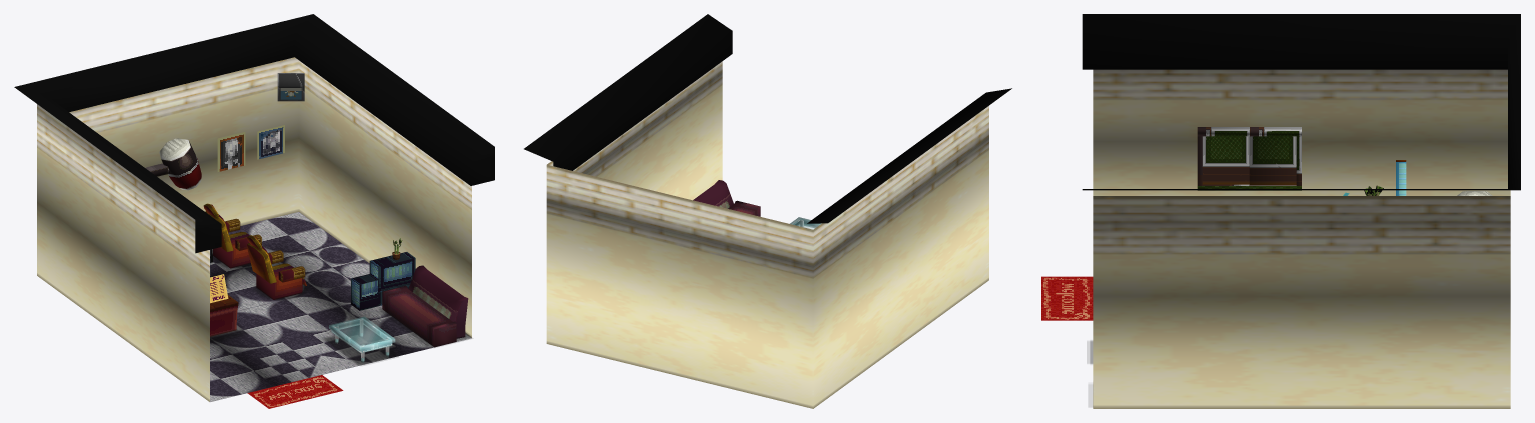
3 views of the same model, side by side, from view 1: azimuth 30°, elevation 25°; view 2: azimuth 150°, elevation 25°; view 3: azimuth 270°, elevation 25° (orthographic). The views are drawn at different scales.
Parts seen in each view (by area): view 1: sh_r_hair; view 2: sh_r_hair; view 3: sh_r_hair.
Boxes of the visible parts, x1,y1,x2,y2 form: sh_r_hair: (14,14,494,408); sh_r_hair: (524,14,1011,408); sh_r_hair: (1041,14,1520,408).
Size of the model in its own units: 4 by 2.43 by 4.6.
Materials: 33 (33 with a texture image).
